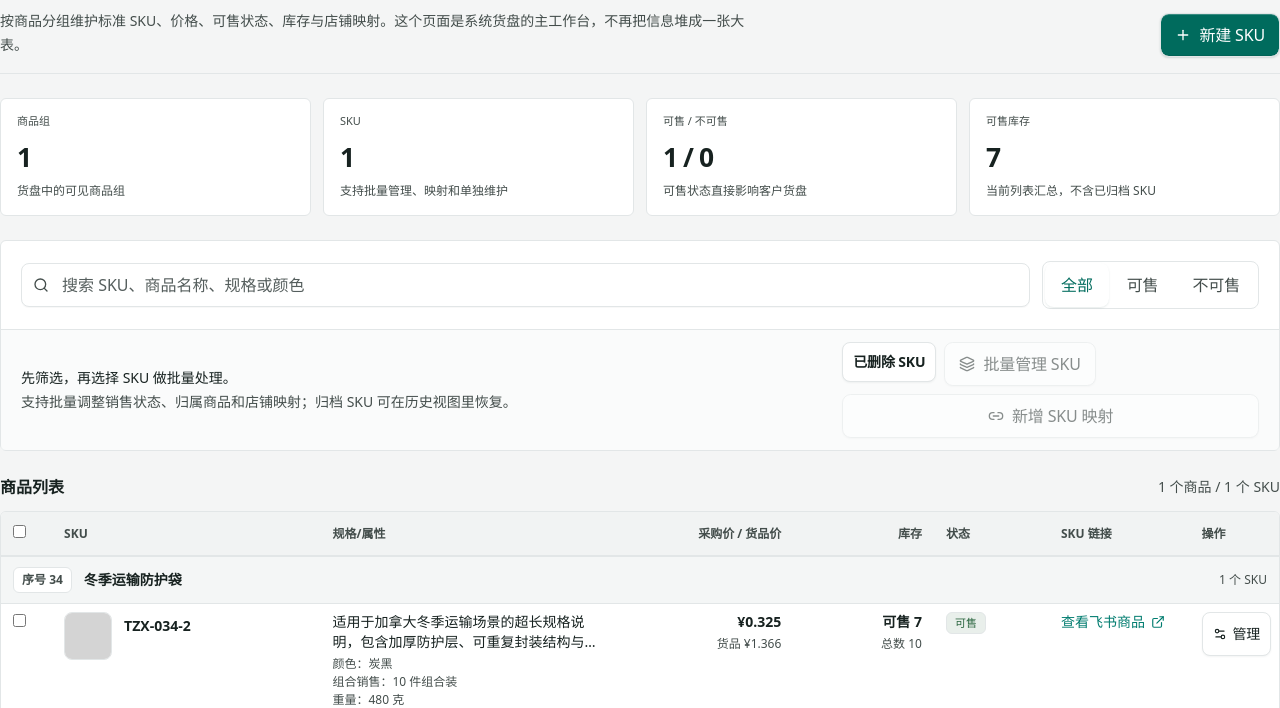
catalog workspaces › clears combined administrator query and sale-status filters locally from the empty state
The image size is (1280, 708).
Type "no admin SKU matches this query" into the search field.
click(526, 285); type("no admin SKU matches this query")  # box [21,263,1030,307]
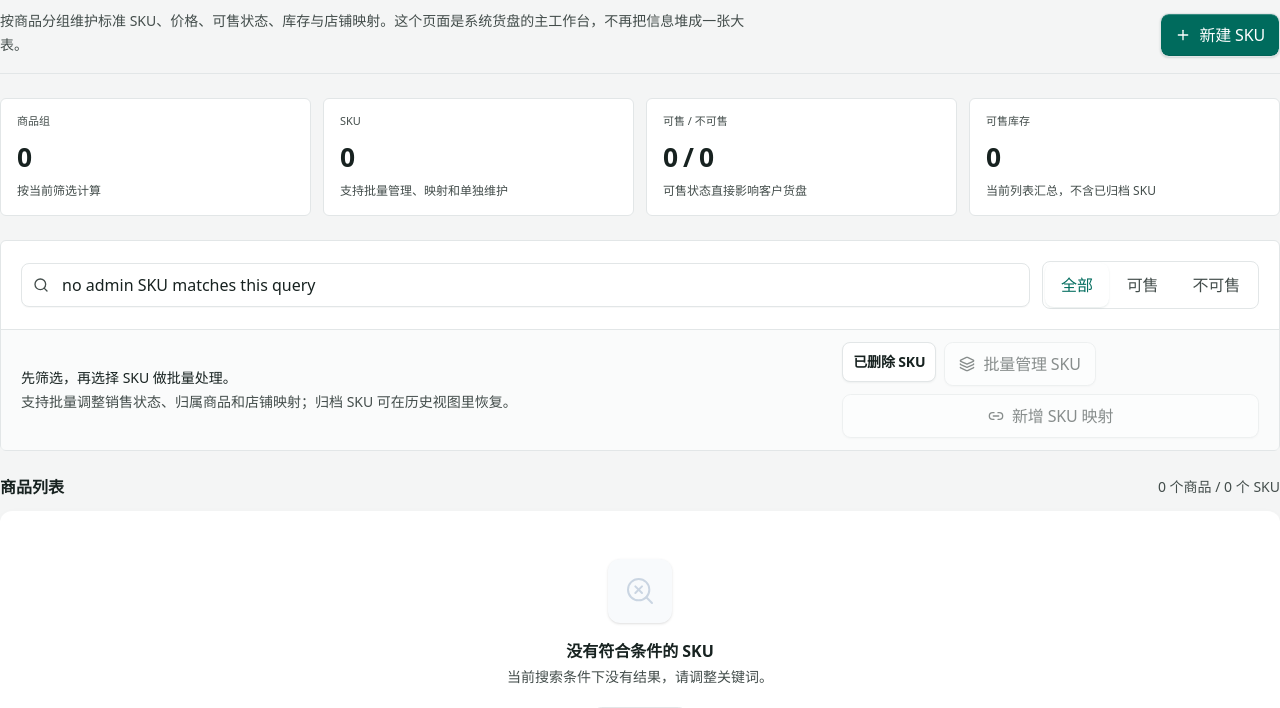
Click the button with aria-label "只看不可售 SKU".
click(1216, 285)  # box [1176,263,1256,307]
(page scrolled)
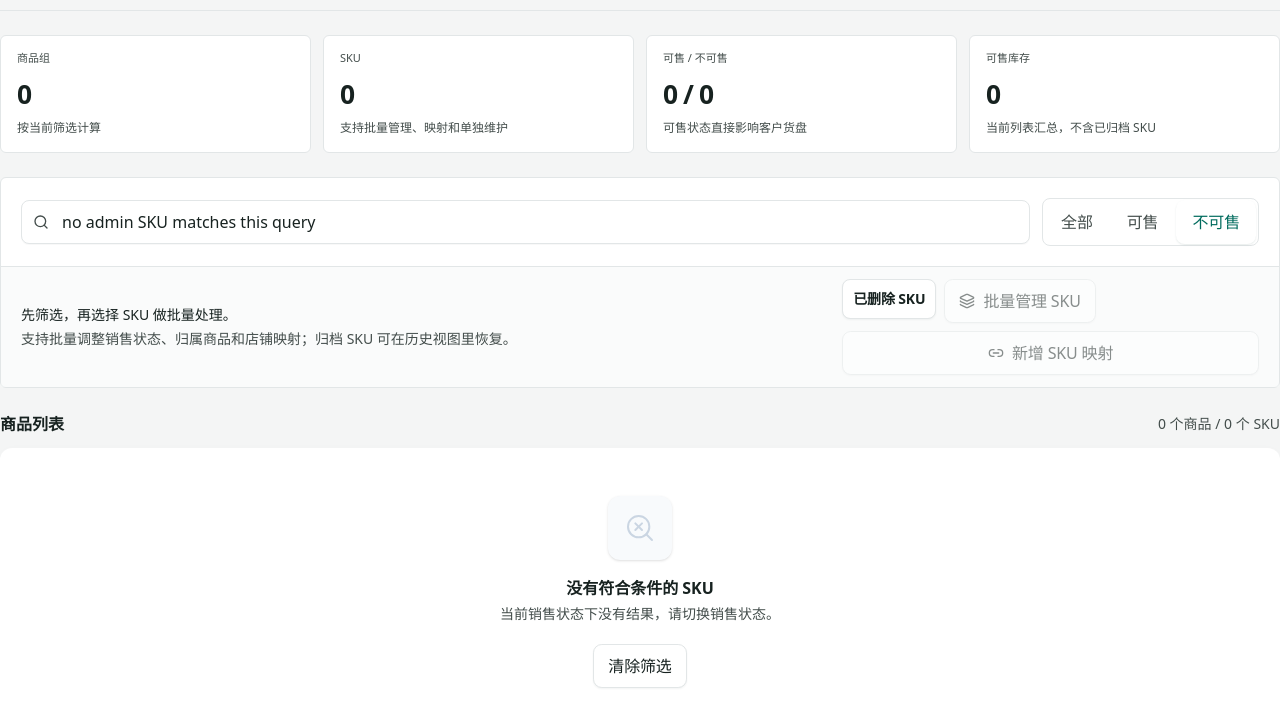
Now the heading "没有符合条件的 SKU" is shown, box [566,577,714,599]
Click the button "清除筛选".
click(640, 666)  # box [593,644,687,688]
(page scrolled)
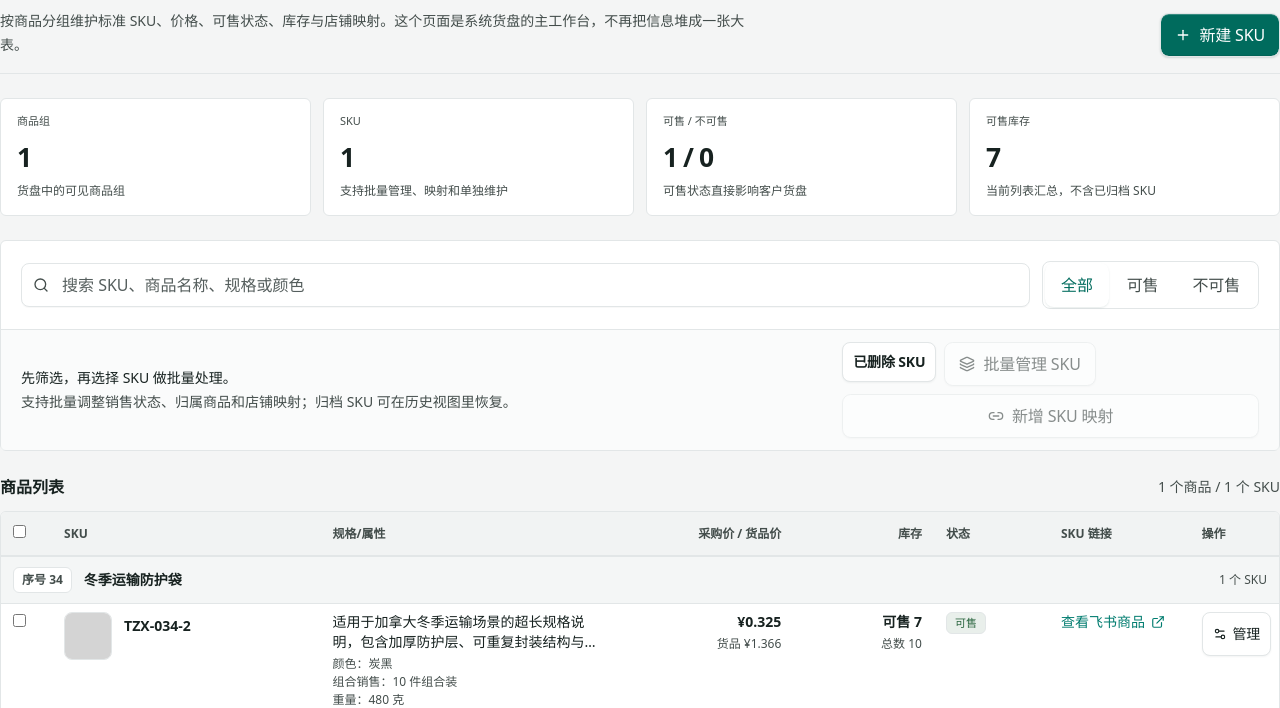
Now the search field is empty, box [21,263,1030,307]
Now the text "1 个商品 / 1 个 SKU" is shown, box [1158,477,1279,497]
Now the text "TZX-034-2" is shown 2 times
